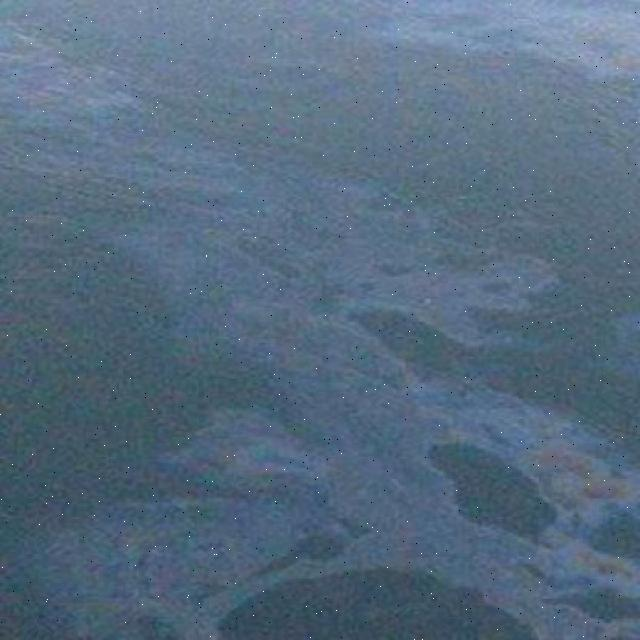oil: (0, 130, 634, 640), (346, 2, 640, 86), (2, 0, 200, 124)
